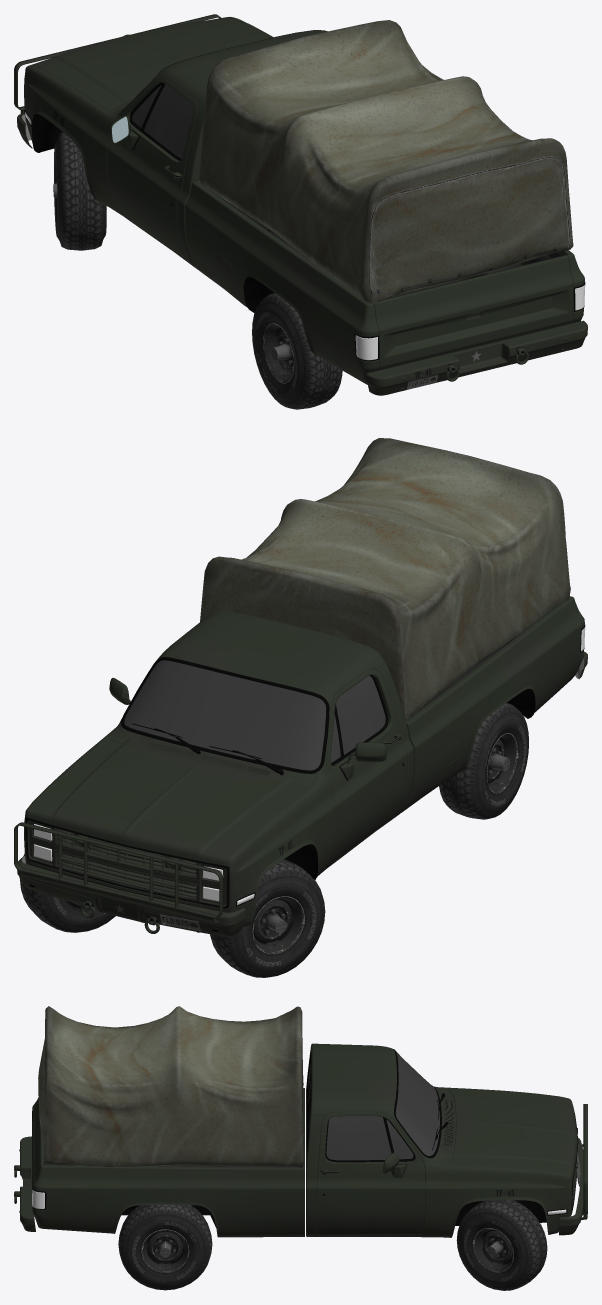
File: Camioneta.glb
3 renders of one model, top to bottom at view 1: azimuth 30°, elevation 25°; view 2: azimuth 150°, elevation 25°; view 3: azimuth 270°, elevation 25°, orthographic. The views are drawn at different scales.
Parts seen in each view (by area): view 1: desirefx.me_14, desirefx.me_08, desirefx.me_19, desirefx.me_18, desirefx.me_00, desirefx.me_15, desirefx.me_04, desirefx.me_07, desirefx.me_17; view 2: desirefx.me_08, desirefx.me_14, desirefx.me_00, desirefx.me_18, desirefx.me_19, desirefx.me_20, desirefx.me_05, desirefx.me_15, desirefx.me_13, desirefx.me_10, desirefx.me_11; view 3: desirefx.me_08, desirefx.me_14, desirefx.me_21, desirefx.me_20, desirefx.me_00, desirefx.me_05, desirefx.me_15, desirefx.me_17.
Part boxes in pixels (<box>): desirefx.me_14: <box>199,20,573,302</box>; desirefx.me_08: <box>14,14,587,395</box>; desirefx.me_19: <box>252,293,342,409</box>; desirefx.me_18: <box>53,132,106,250</box>; desirefx.me_00: <box>132,84,192,158</box>; desirefx.me_15: <box>32,114,524,371</box>; desirefx.me_04: <box>207,188,560,297</box>; desirefx.me_07: <box>355,284,585,360</box>; desirefx.me_17: <box>129,82,181,205</box>; desirefx.me_08: <box>14,596,587,936</box>; desirefx.me_14: <box>200,438,570,718</box>; desirefx.me_00: <box>124,660,385,770</box>; desirefx.me_18: <box>210,859,325,977</box>; desirefx.me_19: <box>439,702,528,819</box>; desirefx.me_20: <box>20,854,115,932</box>; desirefx.me_05: <box>24,657,403,906</box>; desirefx.me_15: <box>29,688,535,931</box>; desirefx.me_13: <box>25,817,229,908</box>; desirefx.me_10: <box>27,819,227,906</box>; desirefx.me_11: <box>34,824,223,901</box>; desirefx.me_08: <box>14,1043,587,1237</box>; desirefx.me_14: <box>38,1006,304,1167</box>; desirefx.me_21: <box>118,1204,212,1290</box>; desirefx.me_20: <box>456,1200,547,1290</box>; desirefx.me_00: <box>308,1052,439,1160</box>; desirefx.me_05: <box>307,1049,567,1215</box>; desirefx.me_15: <box>14,1168,546,1227</box>; desirefx.me_17: <box>323,1117,415,1195</box>.
Bounding box in the file's own units: 0.0765 × 0.0744 × 0.1785.
22 materials, 19 textured.
